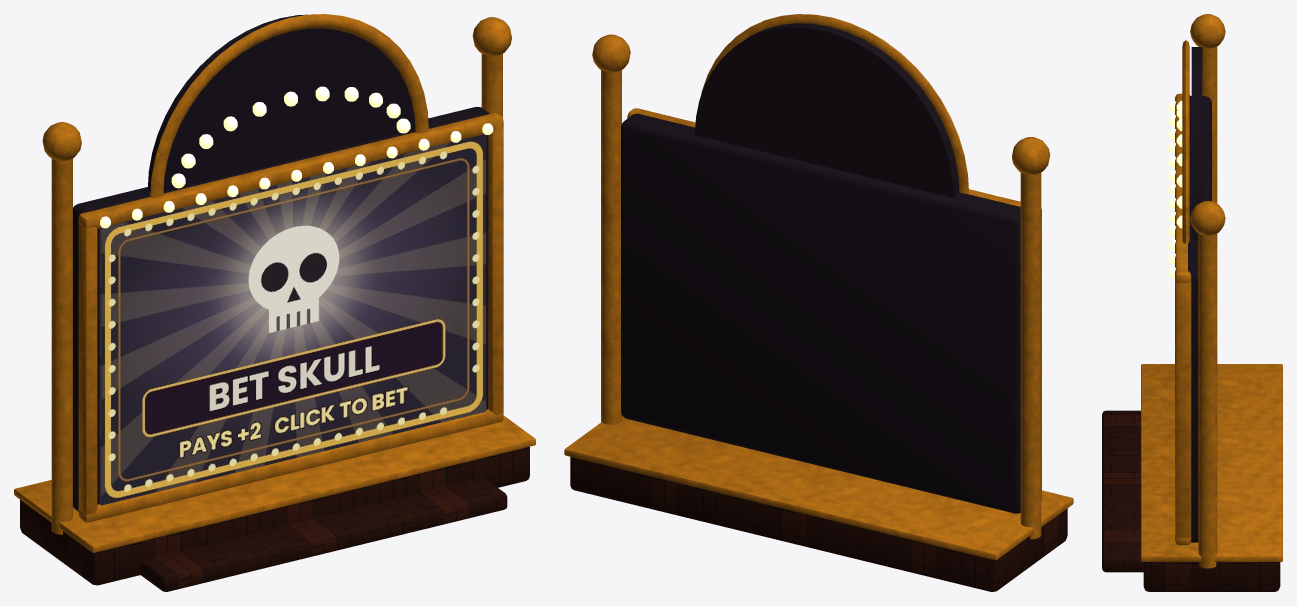
File: bet-skull.glb
3 renders of one model, left to right at view 1: azimuth 30°, elevation 25°; view 2: azimuth 150°, elevation 25°; view 3: azimuth 270°, elevation 25°, orthographic. The views are drawn at different scales.
Parts seen in each view (by area): view 1: bet-skull; view 2: bet-skull; view 3: bet-skull.
Part boxes in pixels (bbox=[...]): bet-skull: bbox=[14, 14, 535, 591]; bet-skull: bbox=[564, 14, 1073, 591]; bet-skull: bbox=[1102, 14, 1282, 591].
Bounding box in the file's own units: 3.49 × 3.6 × 1.32.
5 materials, 3 textured.
